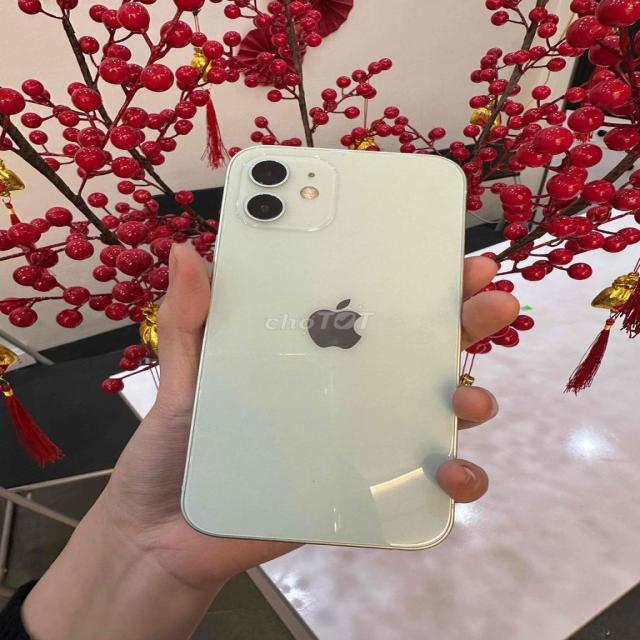gen_12_13: (175, 143, 471, 554)
